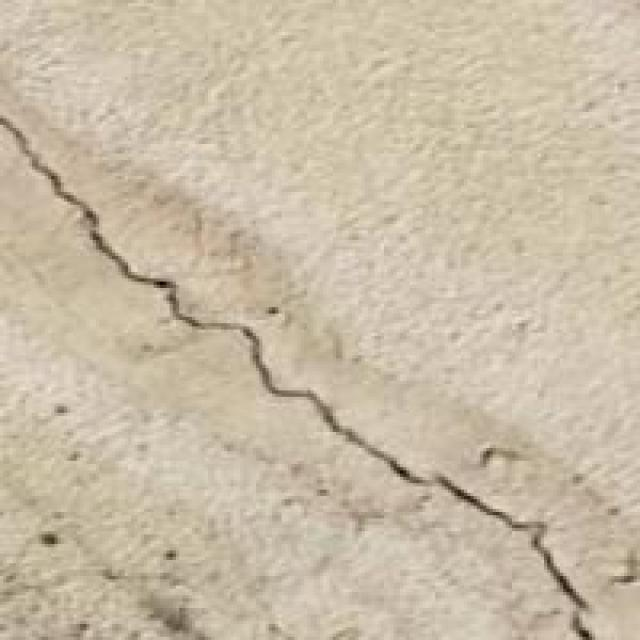crack: (0, 114, 598, 640)
